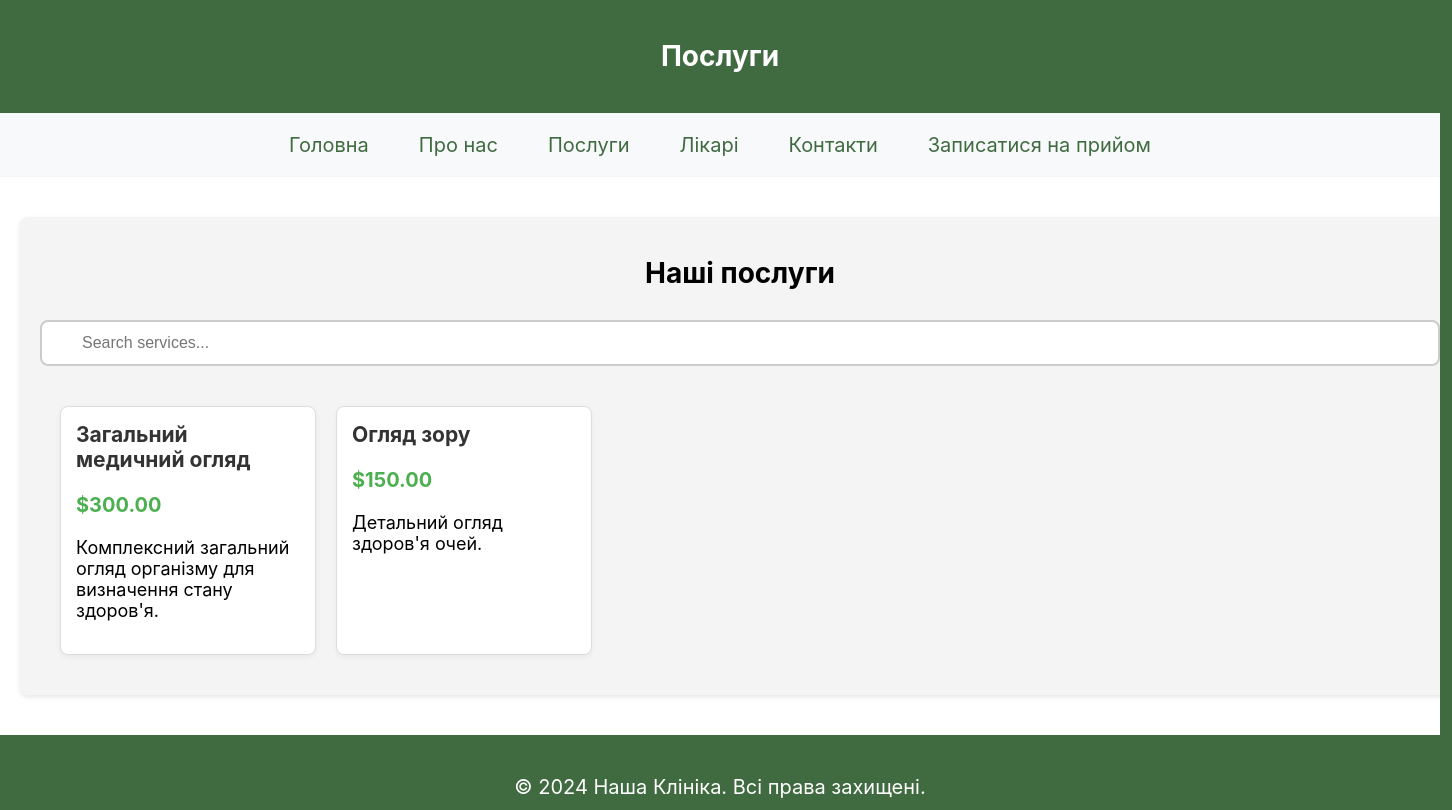
Test: Services Component Tests › filters services based on search term
Expected: the heading "Загальний медичний огляд" is shown, [76,422,250,472]
Expected: the heading "Огляд зору" is shown, [352,422,470,446]
Type "Загальний" into the field with placeholder "Search services...".
click(740, 342); type("Загальний")  # box [40,320,1440,366]
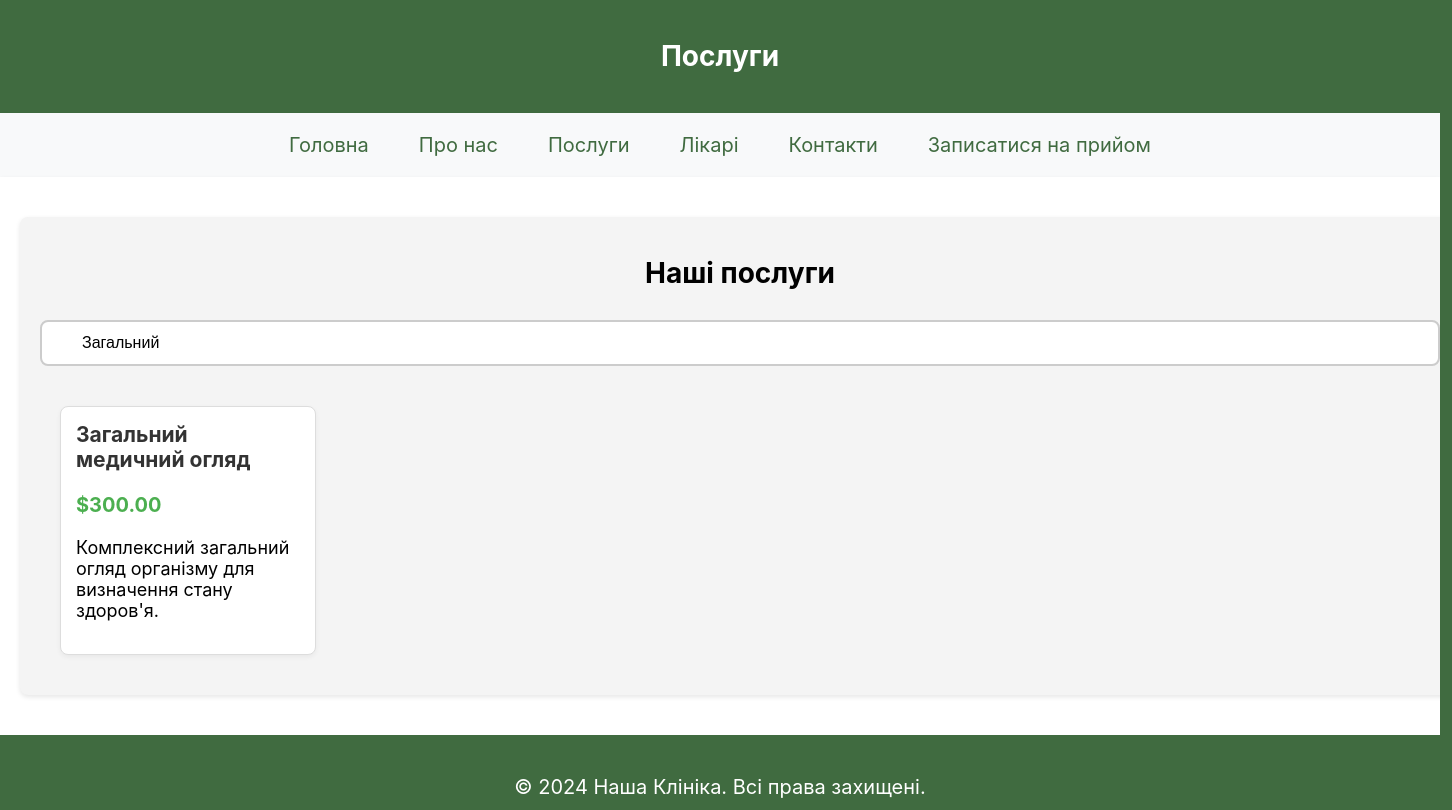
Expected: the heading "Загальний медичний огляд" is shown, [76,422,250,472]
Now the heading "Огляд зору" is gone
